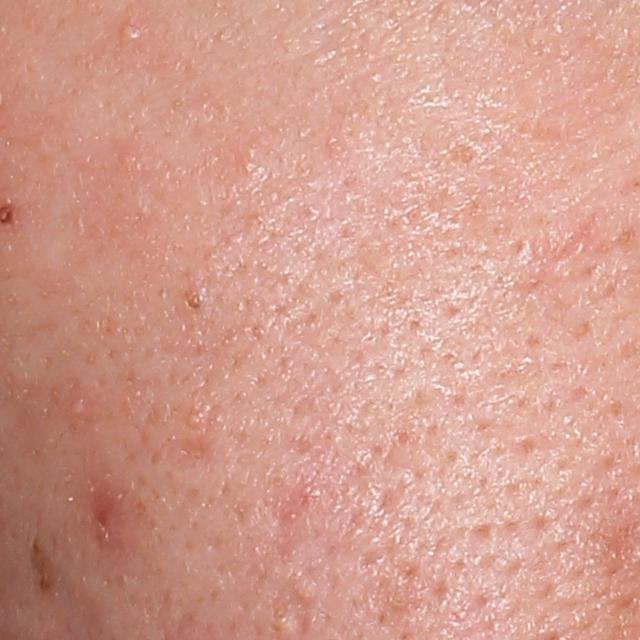comedo: (183, 288, 208, 313), (183, 408, 203, 429), (68, 400, 84, 417)
